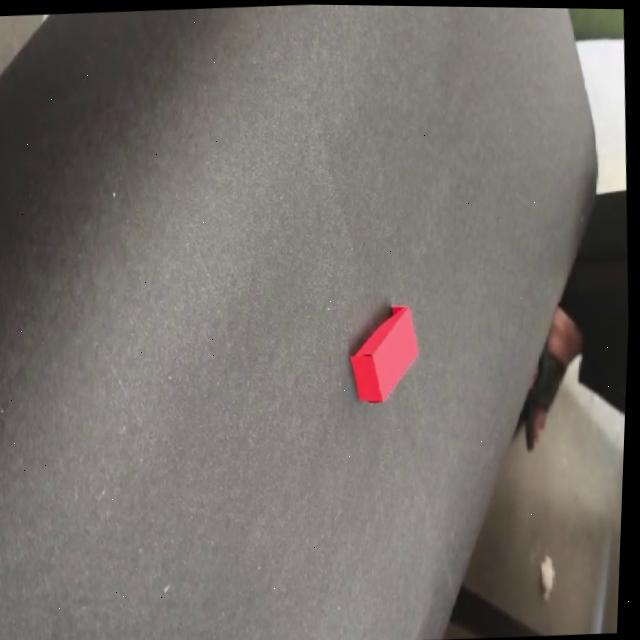red block: (345, 304, 424, 407)
